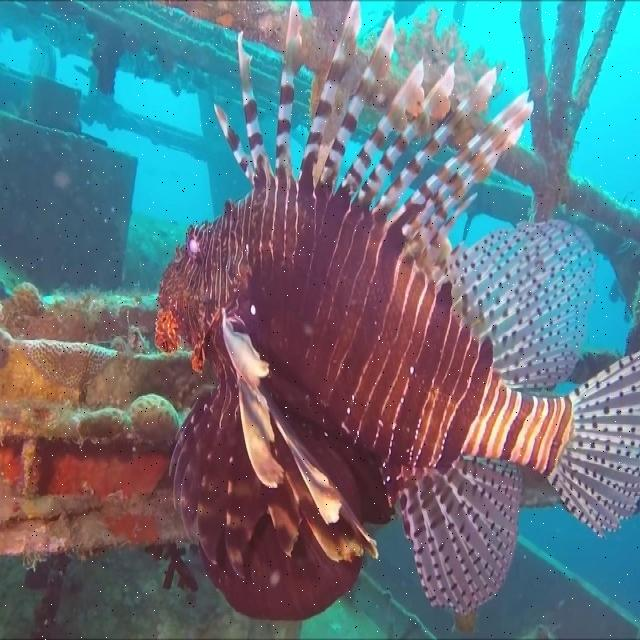fish: (153, 0, 639, 622)
wrecks-ruins: (0, 60, 217, 556), (471, 0, 639, 325), (350, 503, 637, 639)
